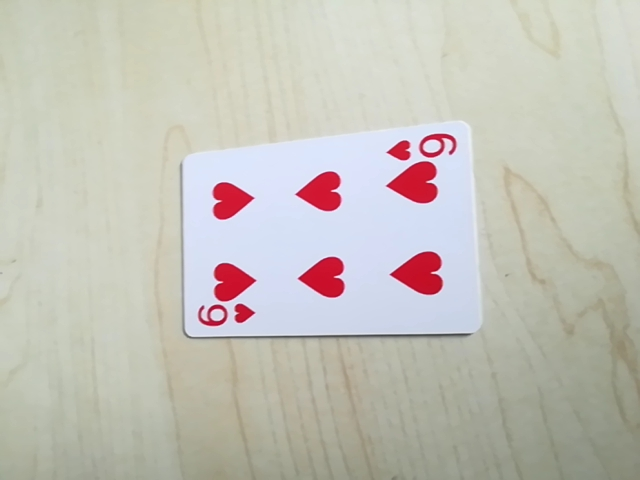hx 6: (387, 126, 459, 162), (194, 301, 258, 334)
